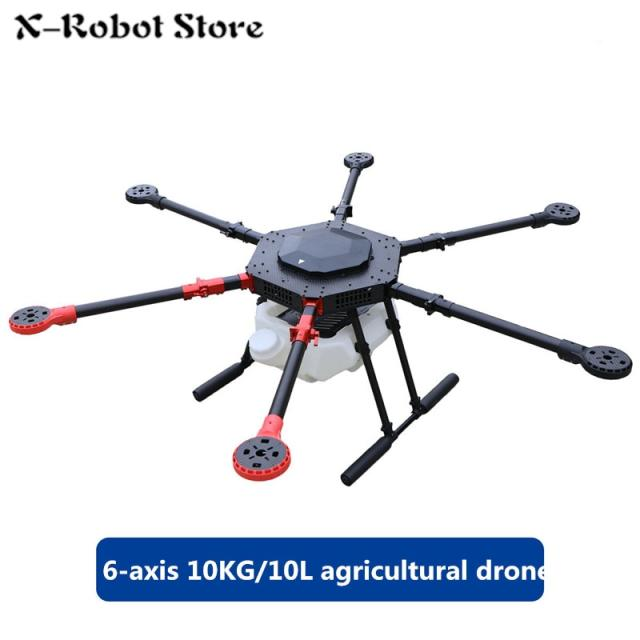drone: (0, 124, 640, 504)
